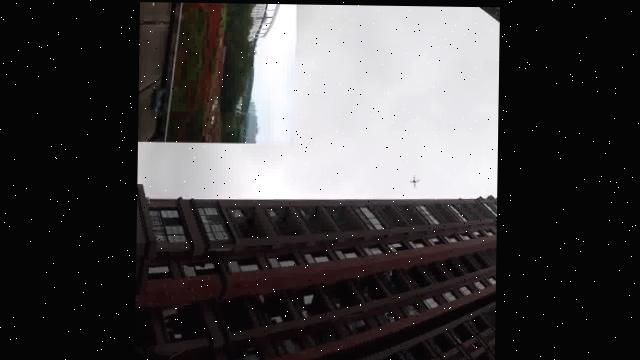drone: (408, 170, 422, 187)
